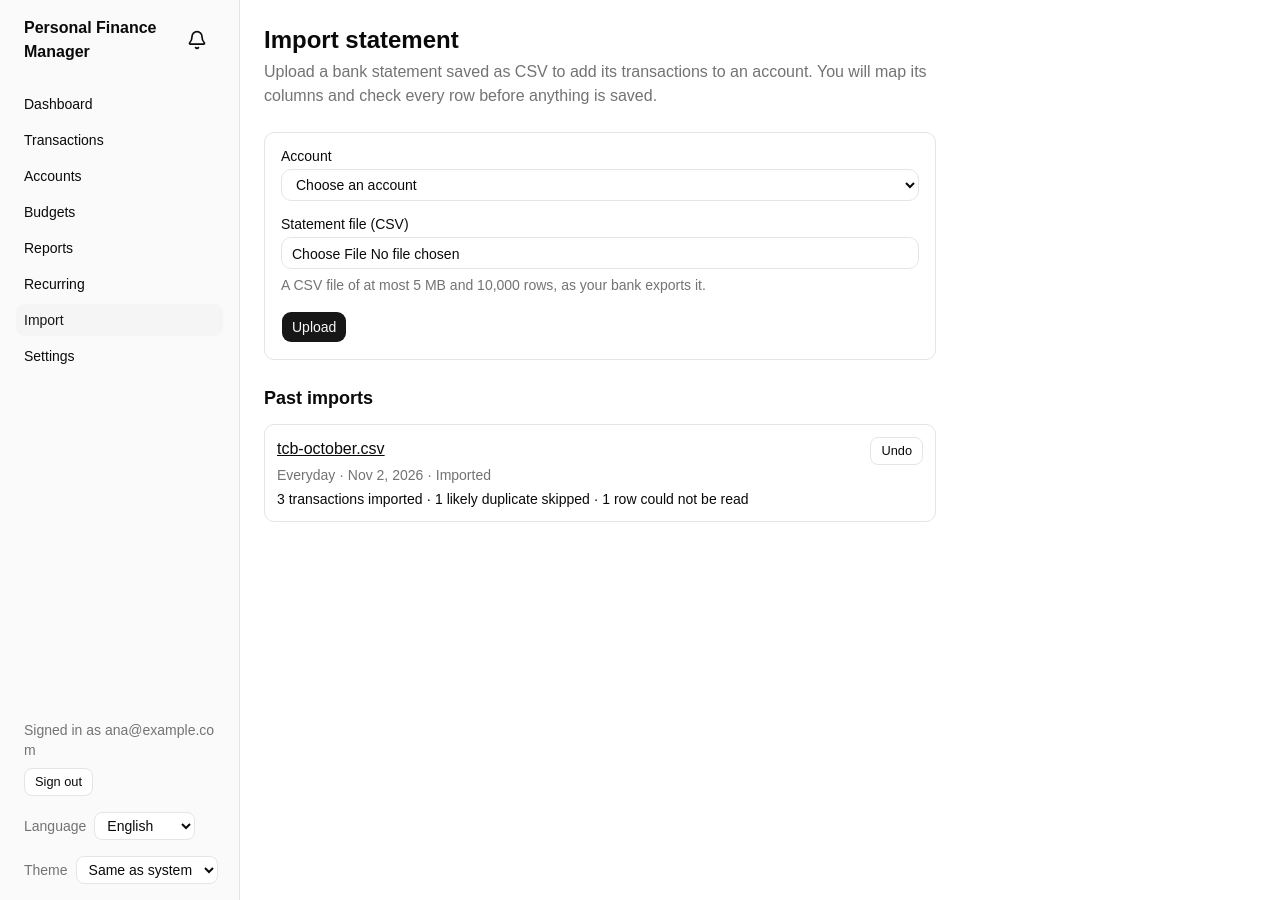
past imports › undoes an import once confirmed, deleting its transactions, which can be restored for 30 days
The width and height of the screenshot is (1280, 900).
Click the button with aria-label "Undo tcb-october.csv".
click(897, 451)  # box [870, 437, 923, 465]
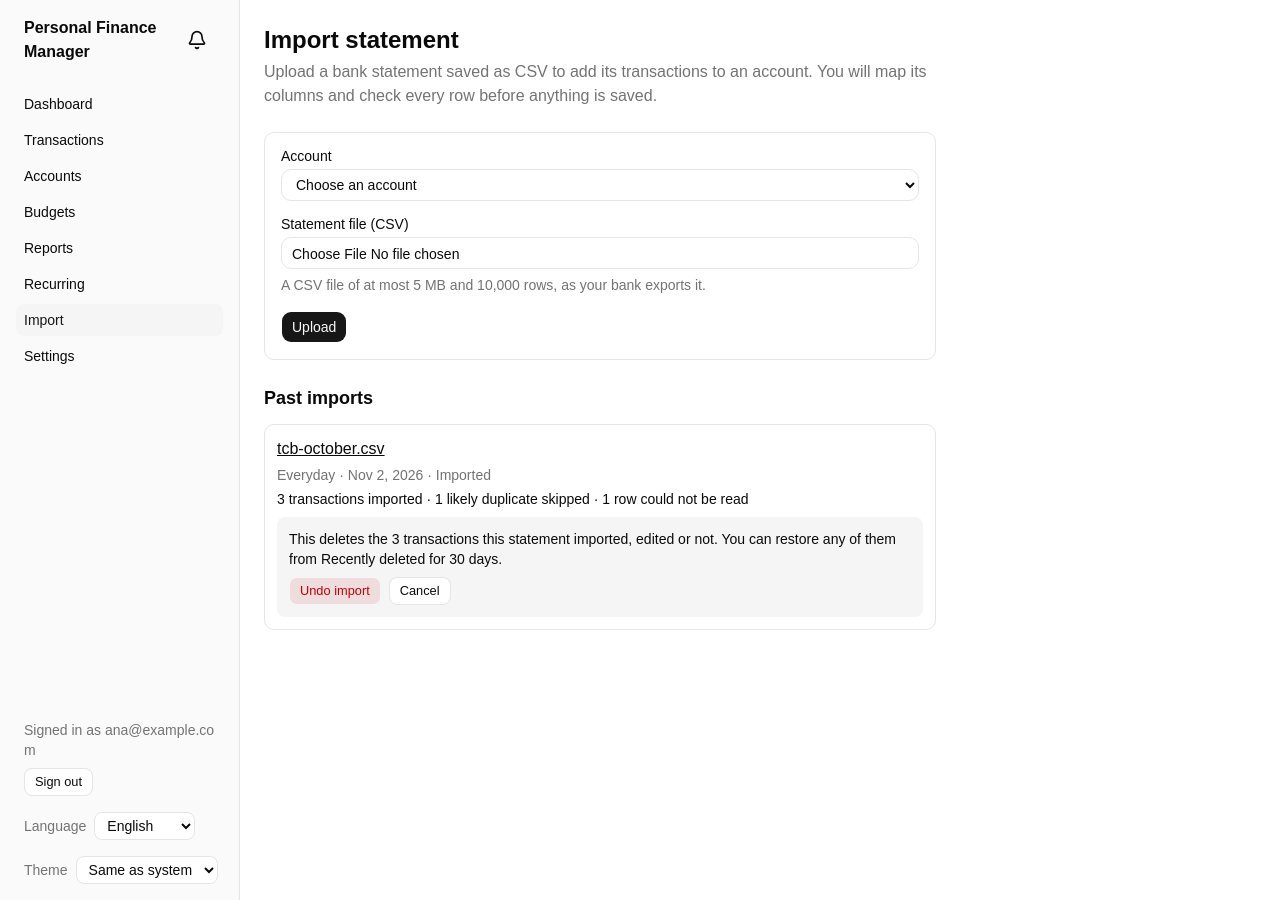
Result: the text "This deletes the 3 transactions this statement imported, edited or not. You can restore any of them from Recently delete" is shown at [289, 531, 896, 567]
Click the button "Undo import".
click(335, 591)  # box [289, 577, 381, 605]
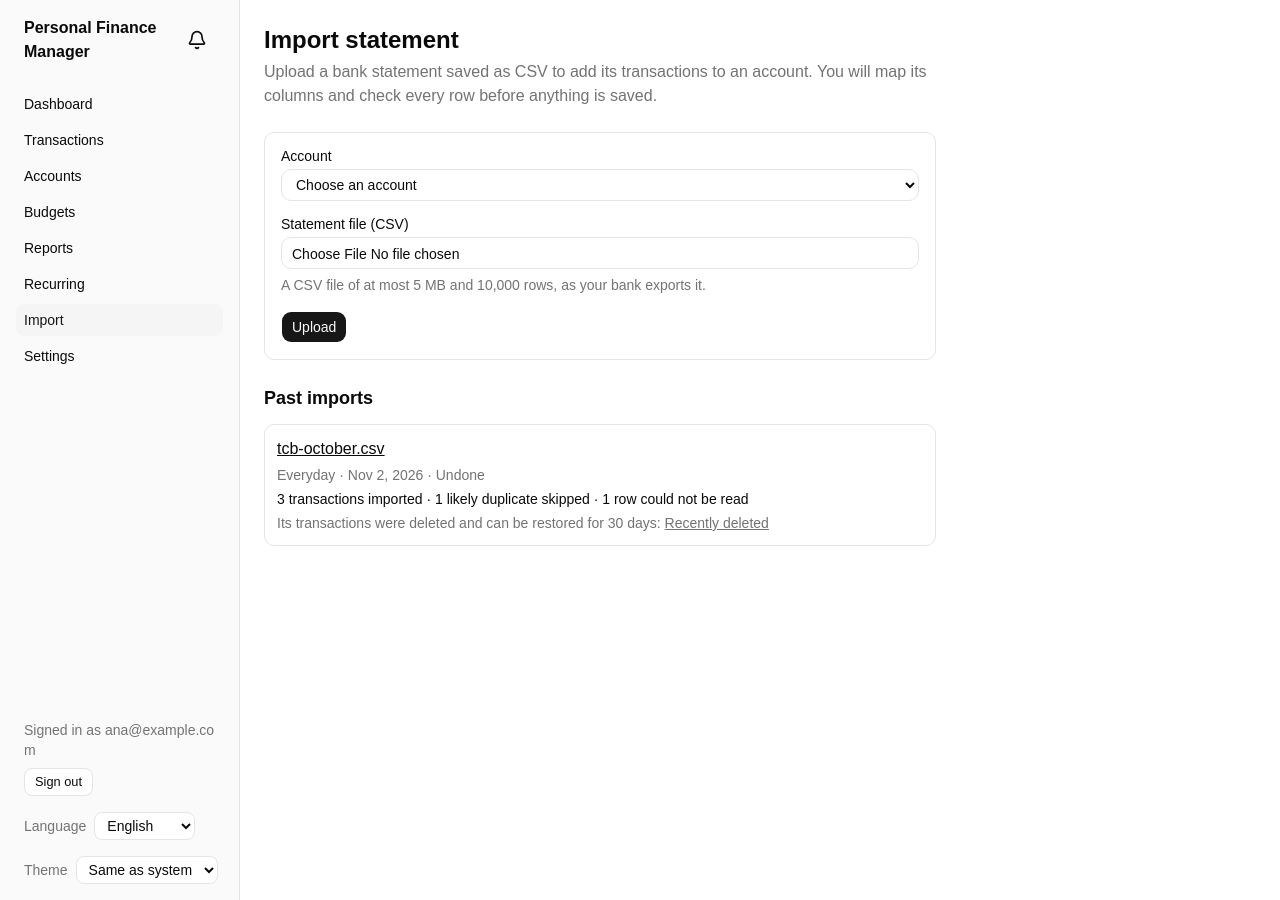
Result: the list item that starts with "tcb-october.csv" shows "Undone" at [277, 467, 485, 483]
